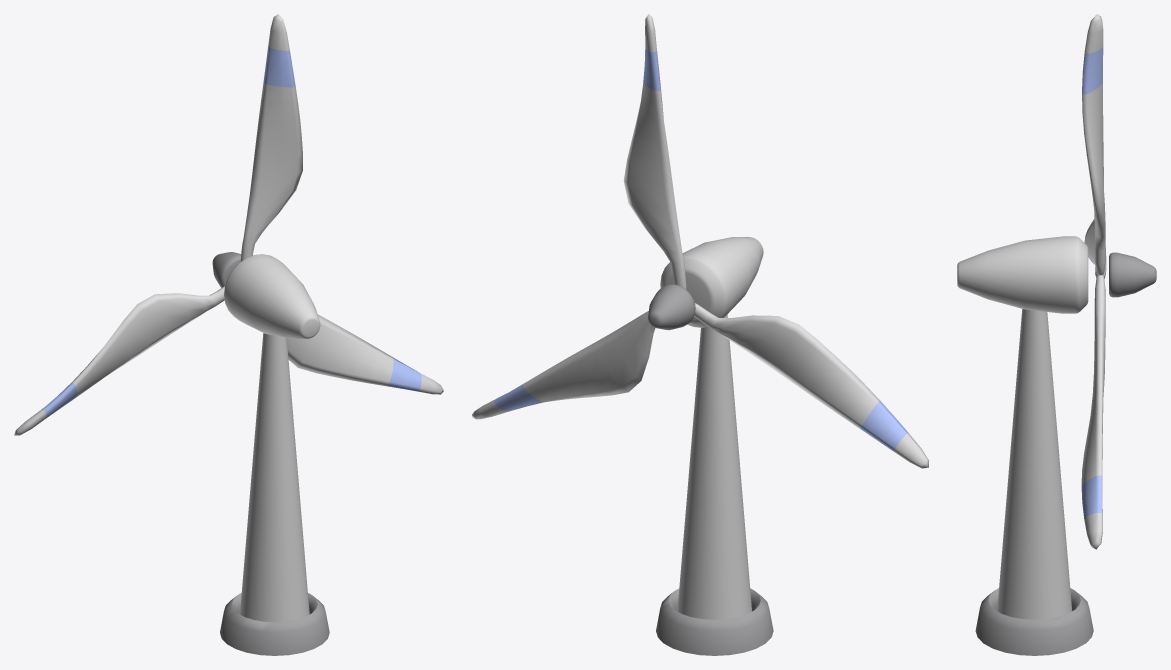
Rendered from windTurbine.glb.
3 views of the same model, side by side, from view 1: azimuth 30°, elevation 25°; view 2: azimuth 150°, elevation 25°; view 3: azimuth 270°, elevation 25° (orthographic). The views are drawn at different scales.
Parts seen in each view (by area): view 1: Propeller, Rod, Rotator, Turbine; view 2: Propeller, Rod, Rotator, Turbine; view 3: Rod, Propeller, Rotator, Turbine.
Part boxes in pixels (left/top/right/bottom): Propeller: left=14, top=14, right=443, bottom=435; Rod: left=220, top=333, right=329, bottom=655; Rotator: left=224, top=254, right=320, bottom=338; Turbine: left=212, top=252, right=240, bottom=287; Propeller: left=472, top=14, right=928, bottom=468; Rod: left=656, top=314, right=773, bottom=655; Rotator: left=660, top=237, right=763, bottom=327; Turbine: left=648, top=284, right=695, bottom=330; Rod: left=975, top=309, right=1093, bottom=655; Propeller: left=1081, top=14, right=1106, bottom=549; Rotator: left=957, top=236, right=1088, bottom=313; Turbine: left=1109, top=252, right=1156, bottom=297.
Size of the model in its own units: 4.44 by 5.84 by 1.67.
